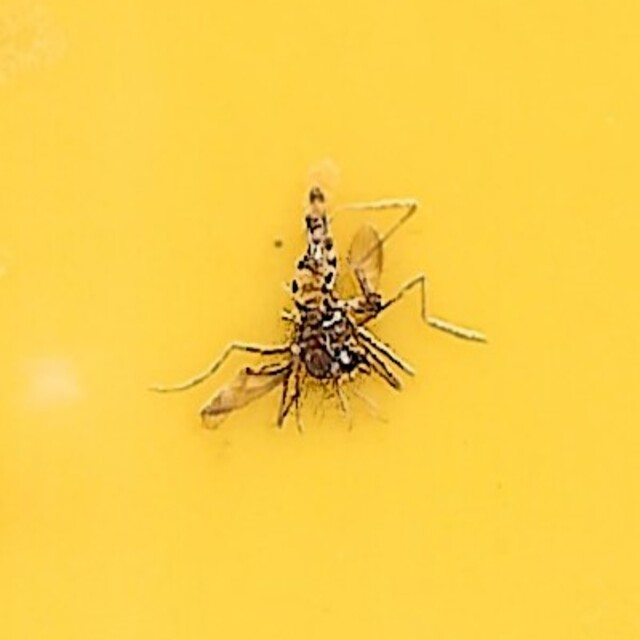Nematocera: (160, 187, 480, 453)
